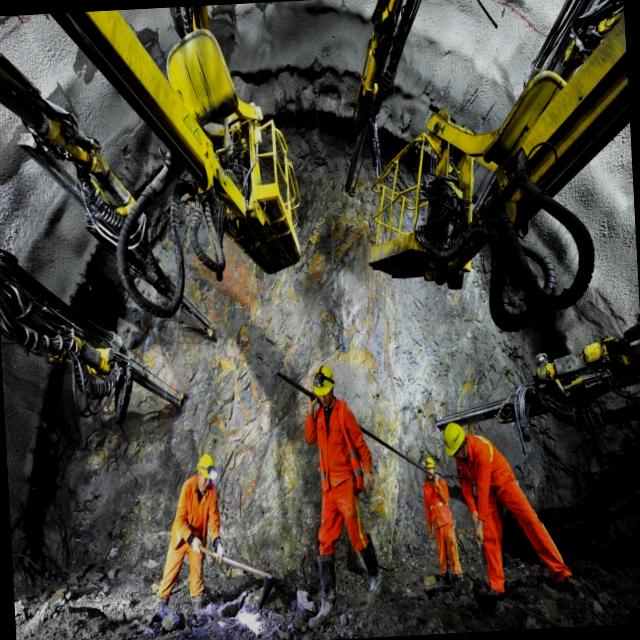helmet: (311, 361, 341, 414), (441, 411, 468, 462), (194, 448, 222, 486)
vest: (307, 397, 357, 489)
